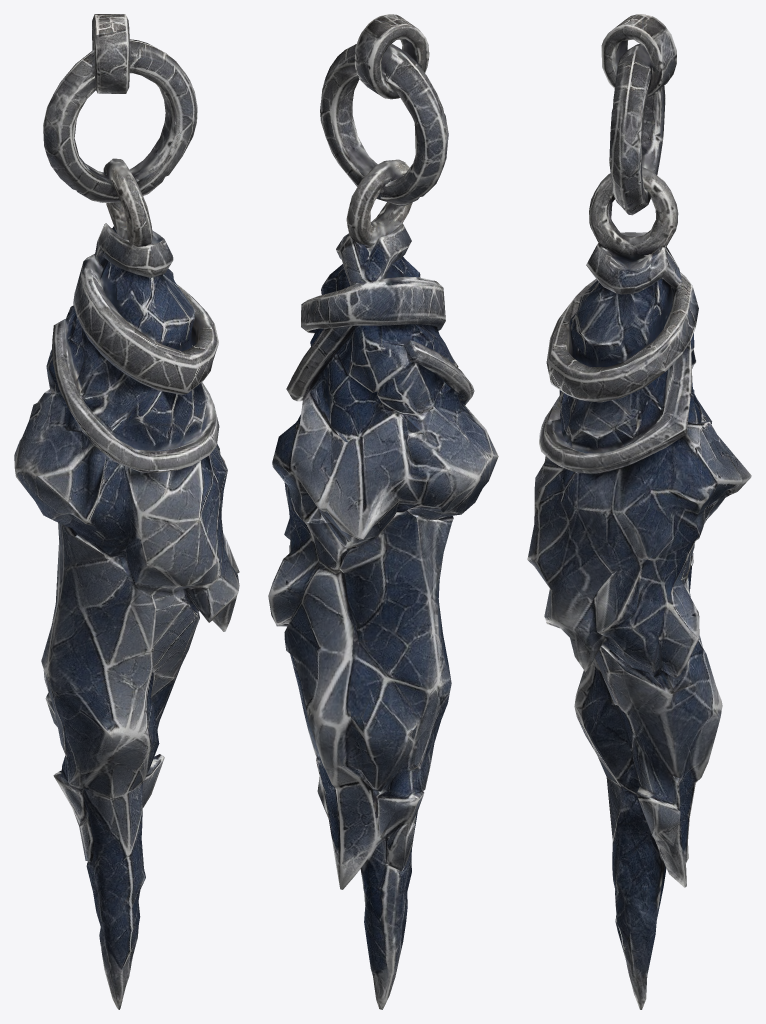
Rendered from set-tempest-charm.glb.
3 renders of one model, left to right at view 1: azimuth 30°, elevation 25°; view 2: azimuth 150°, elevation 25°; view 3: azimuth 270°, elevation 25°, orthographic.
Visible parts, largest first — view 1: Motion_Control; view 2: Motion_Control; view 3: Motion_Control.
Boxes of the visible parts, x1,y1,x2,y2 form: Motion_Control: (14,14,239,1009); Motion_Control: (268,14,498,1009); Motion_Control: (527,14,751,1009).
Bounding box in the file's own units: 0.4237 × 2 × 0.4135.
1 material, 1 textured.
